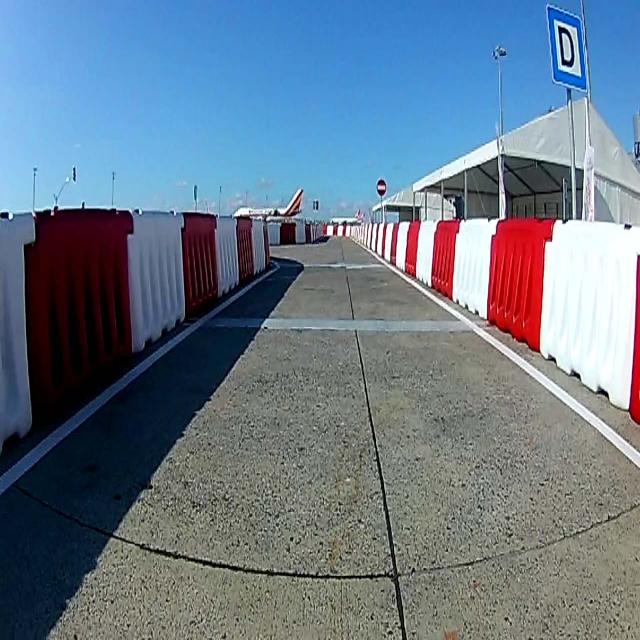durak: (547, 4, 587, 91)
girisyok: (374, 176, 388, 197)
